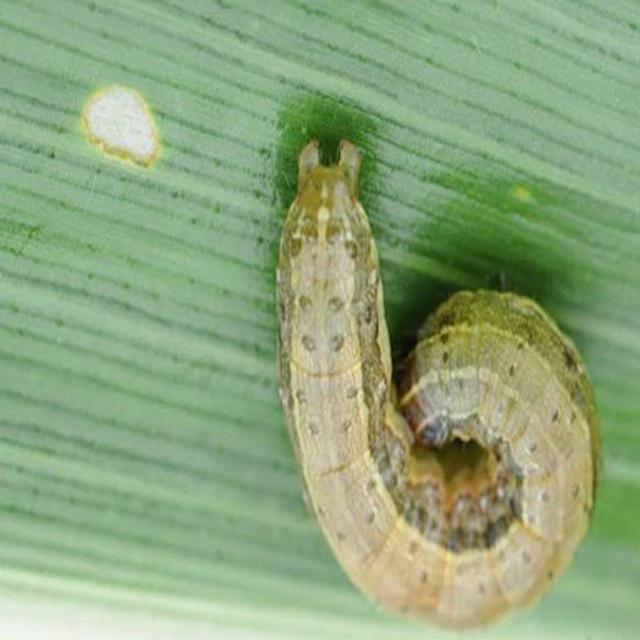gusano_cogollero: (285, 130, 605, 628)
